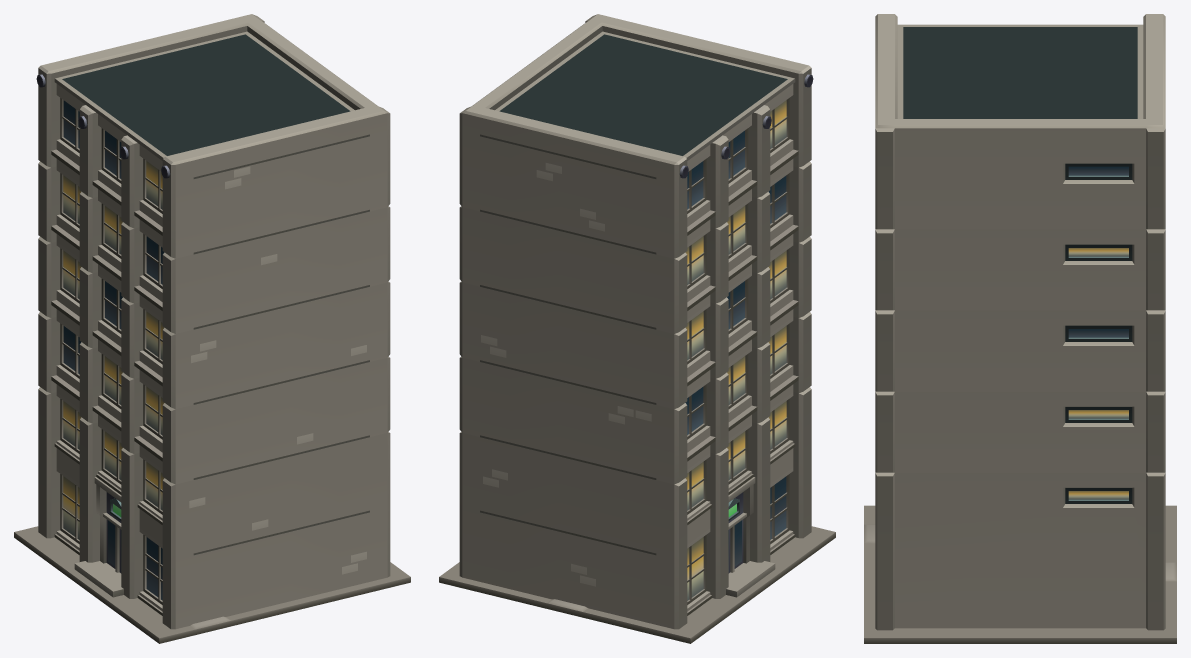
Rendered from Building_16C.fbx.
The picture shows the model from 3 angles, left to right: view 1: azimuth 30°, elevation 25°; view 2: azimuth 150°, elevation 25°; view 3: azimuth 270°, elevation 25°; orthographic projection. The views are drawn at different scales.
Visible parts, largest first — view 1: Building_16C, Window_Lights_16C; view 2: Building_16C, Window_Lights_16C; view 3: Building_16C, Window_Lights_16C.
Part boxes in pixels (x1=…): Building_16C: x1=14, y1=14, x2=410, y2=643; Window_Lights_16C: x1=63, y1=161, x2=164, y2=539; Building_16C: x1=439, y1=14, x2=835, y2=643; Window_Lights_16C: x1=685, y1=100, x2=786, y2=600; Building_16C: x1=864, y1=14, x2=1176, y2=643; Window_Lights_16C: x1=1068, y1=248, x2=1128, y2=499.
Bounding box in the file's own units: 1400 × 2510 × 1400.
